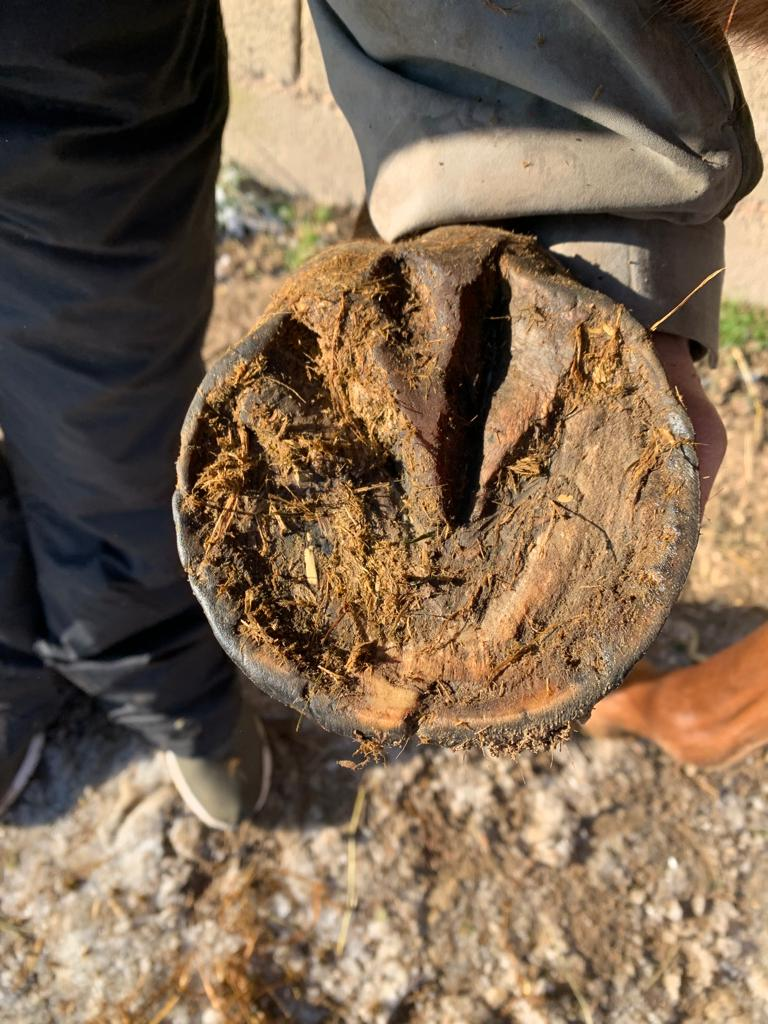horsesole: (168, 253, 705, 754)
